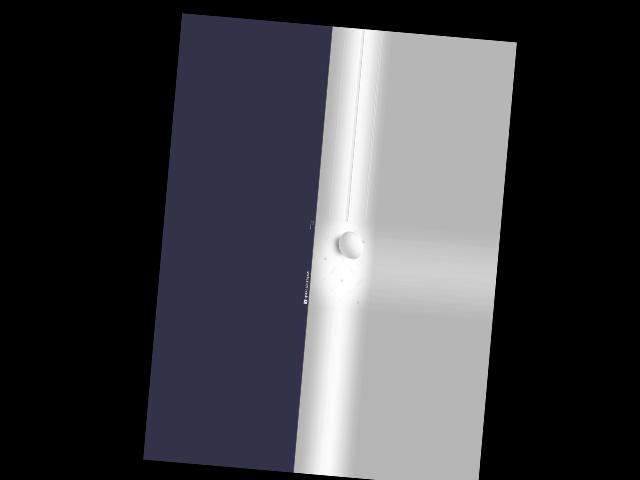egg: (336, 229, 364, 259)
